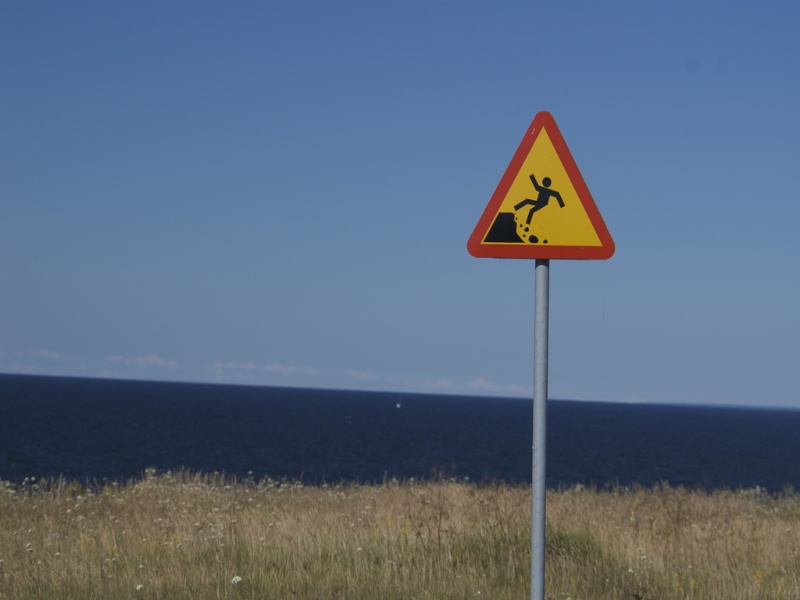cliff_edge: (460, 107, 620, 265)
